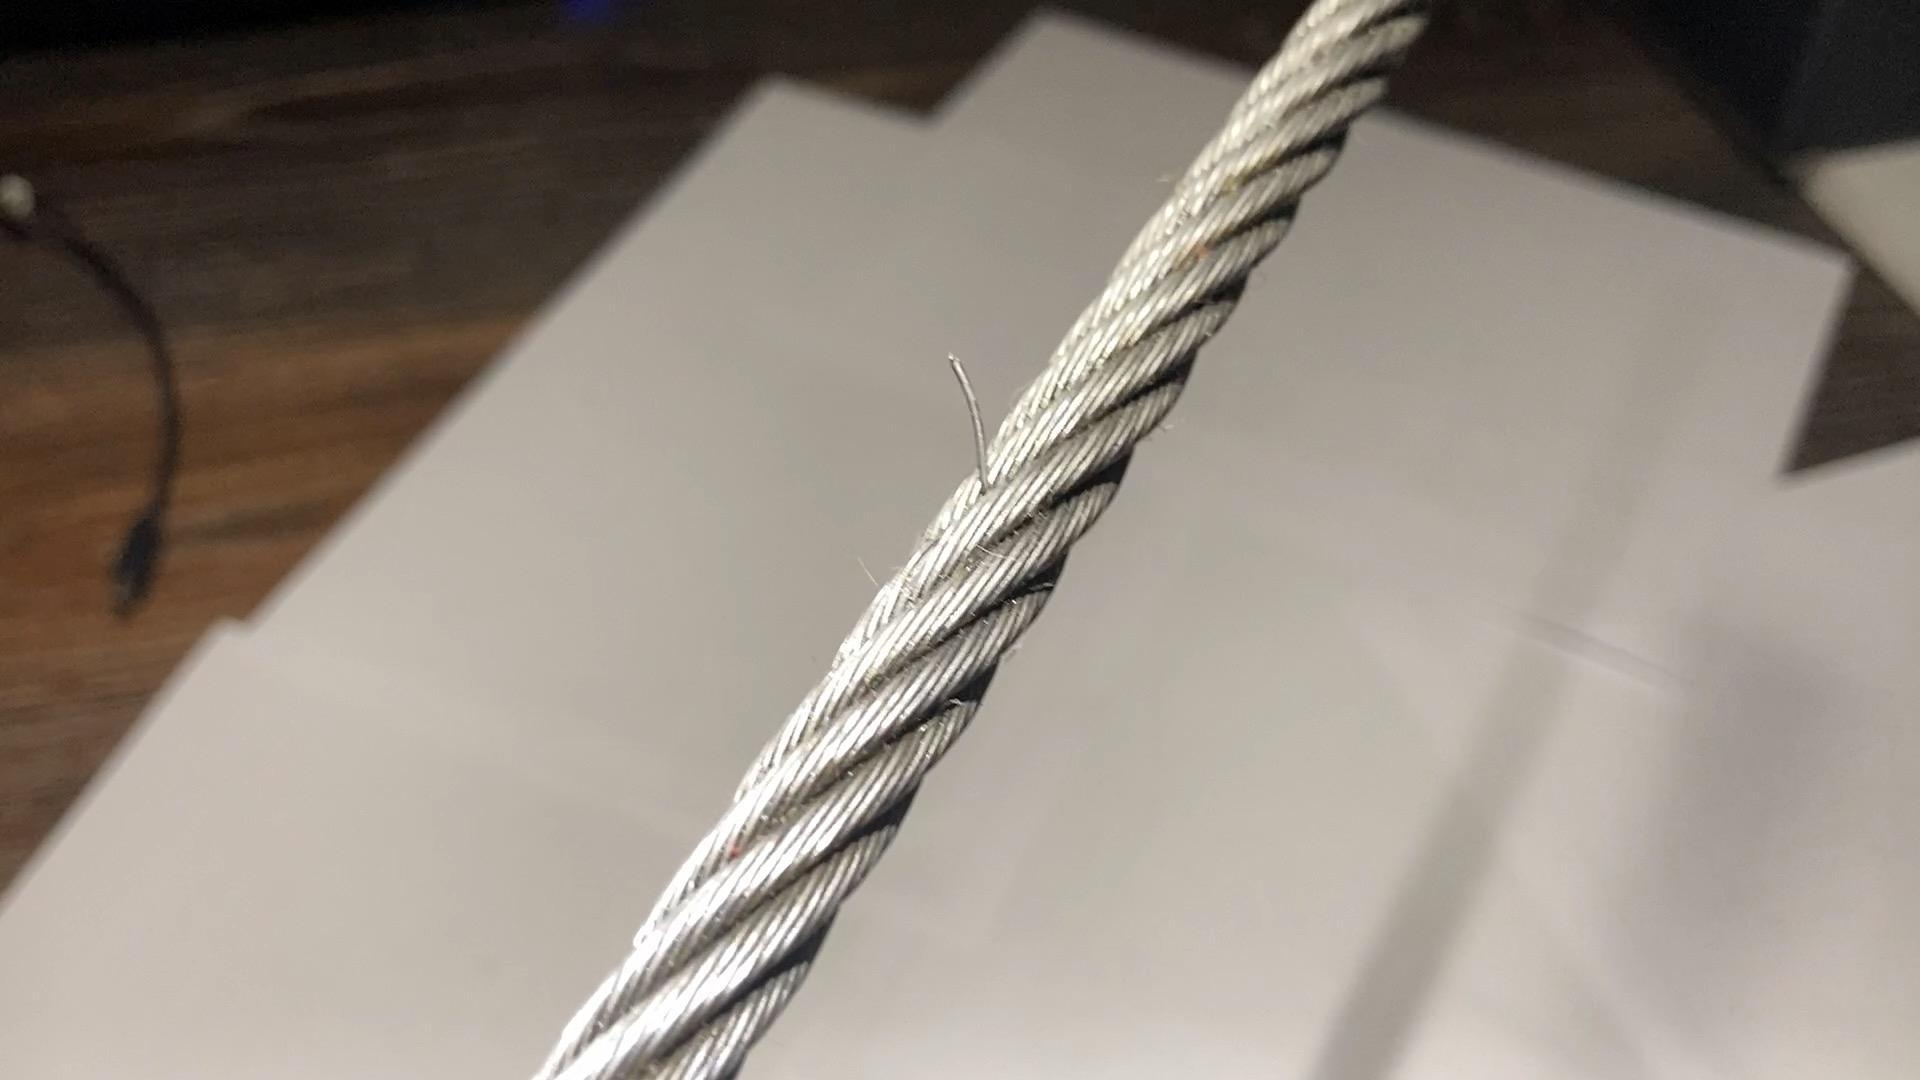break: (938, 330, 1004, 500)
